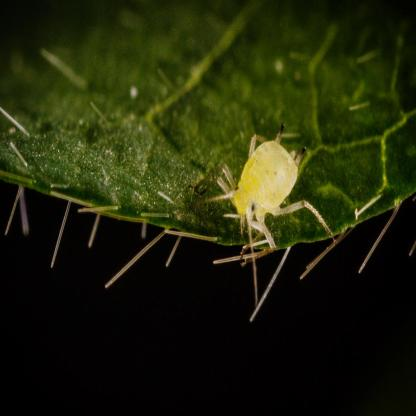aphid: (206, 122, 328, 247)
